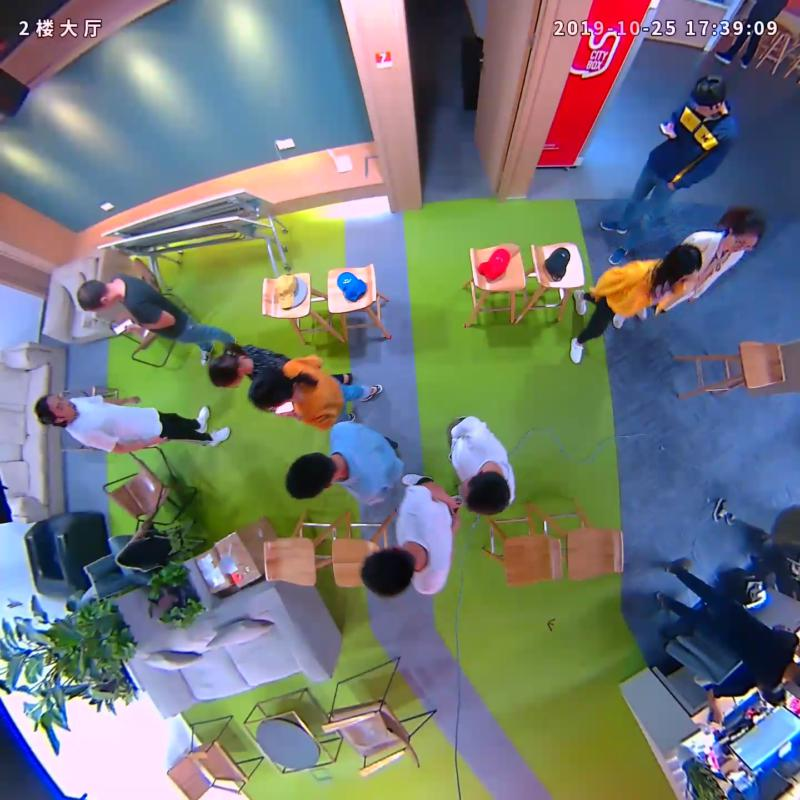head: (360, 547, 417, 597), (285, 451, 336, 500), (460, 471, 512, 515), (247, 368, 295, 407), (665, 243, 704, 287), (724, 213, 762, 255), (691, 75, 727, 116), (34, 393, 76, 428), (206, 352, 243, 388), (77, 278, 114, 311)
